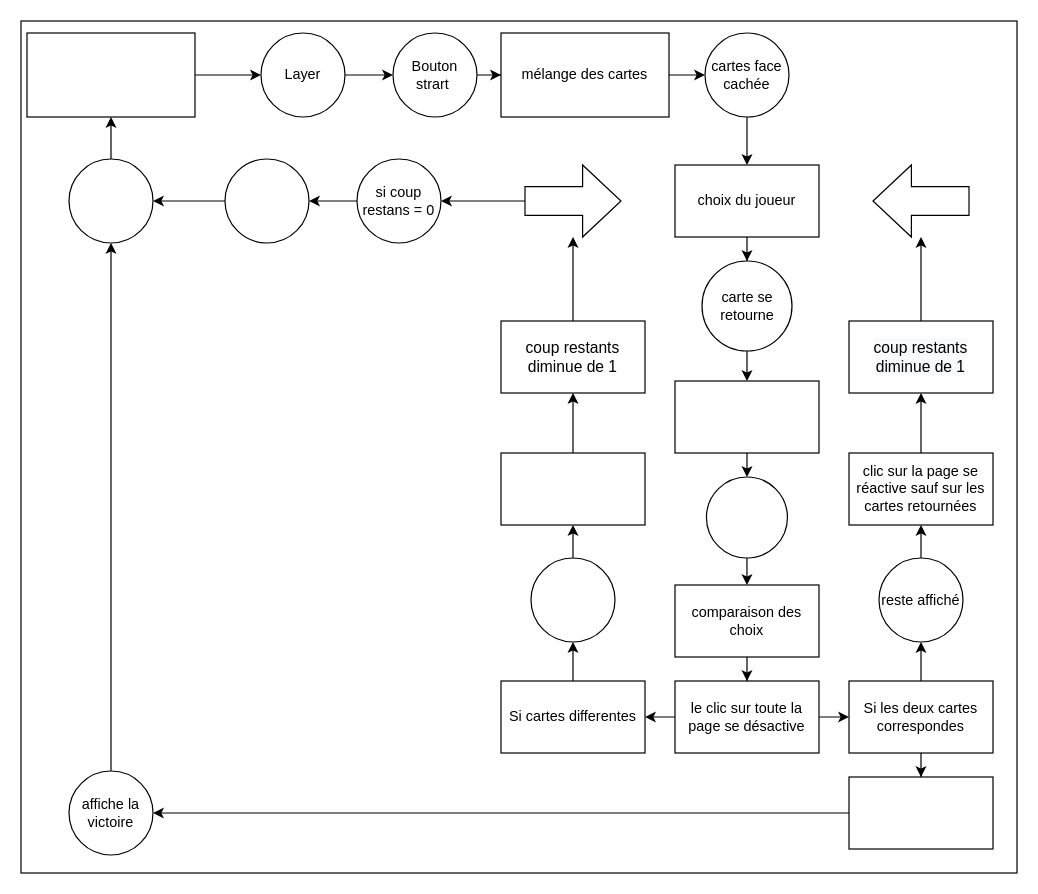
Some shapes in this 1038 by 894 pixel diagram are drawn without their labels. The shapes that lost their labels are listed below. From the top down, each one's centre as x and y in pixels, then its label:
At point (110, 74): "Démarrage du programme".
At point (110, 200): "Relance le jeu au clic".
At point (266, 200): "affiche la défaite".
At point (746, 416): "second choix du joueur".
At point (572, 488): "clic sur la page se réactive".
At point (746, 517): "seconde carte se retourne".
At point (572, 599): "retour face cachée".
At point (920, 812): "si toute les cartes sont trouvées".
